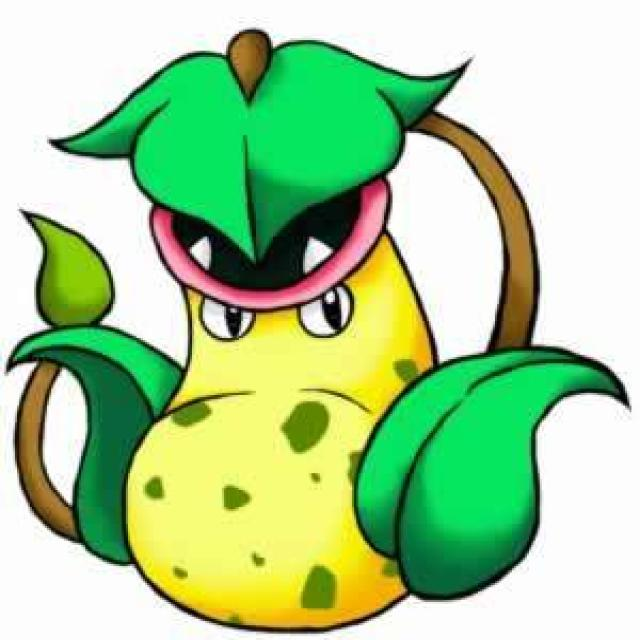Victreebel: (122, 144, 450, 628)
